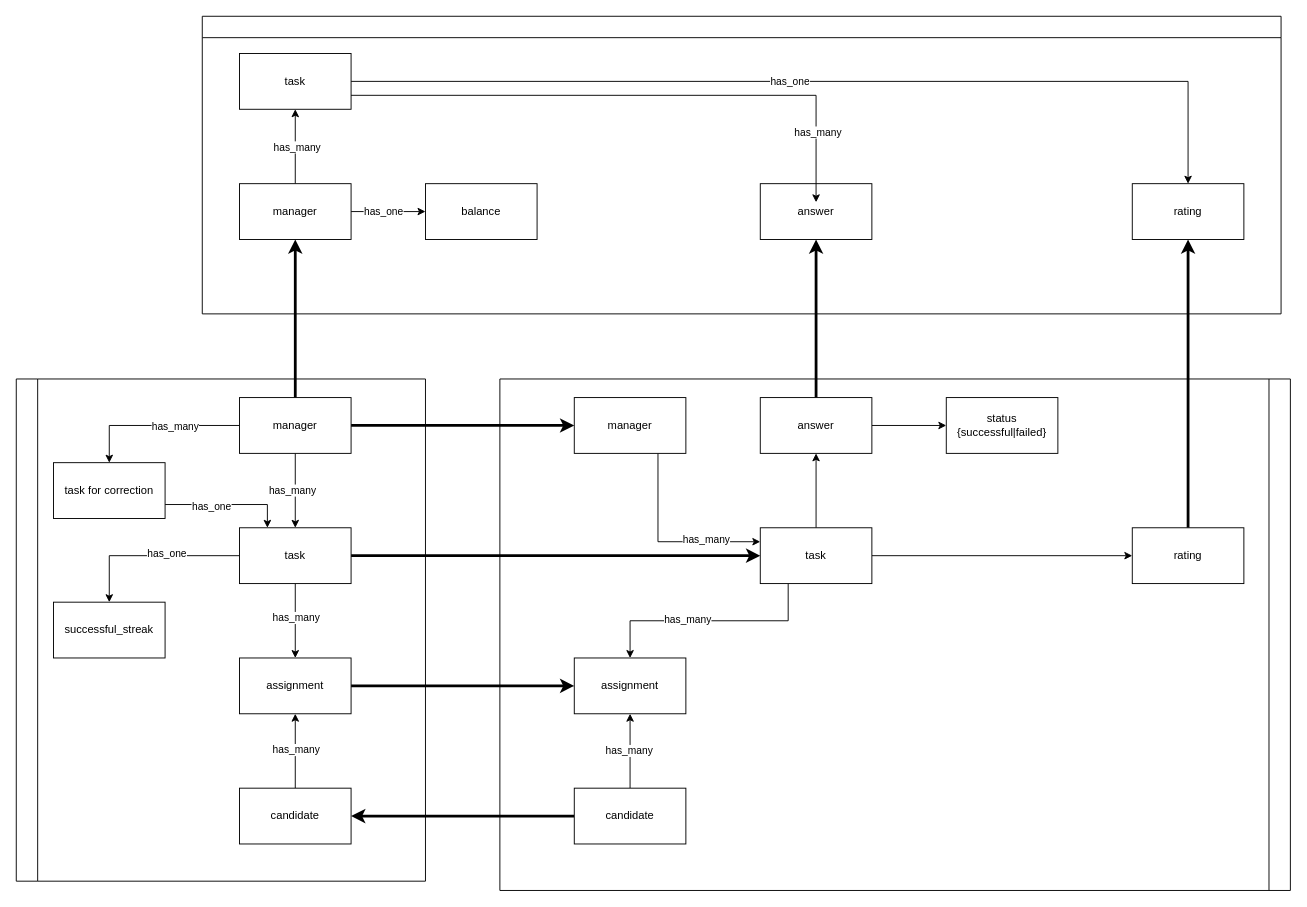
This 1307x907 diagram has some shape labels left out. Here are the shapes that lost their labels. From the top down, the centre of each, then its label:
At (741,164): "Bonuses".
At (220,629): "Task managment".
At (894,634): "Teachers hiring".
